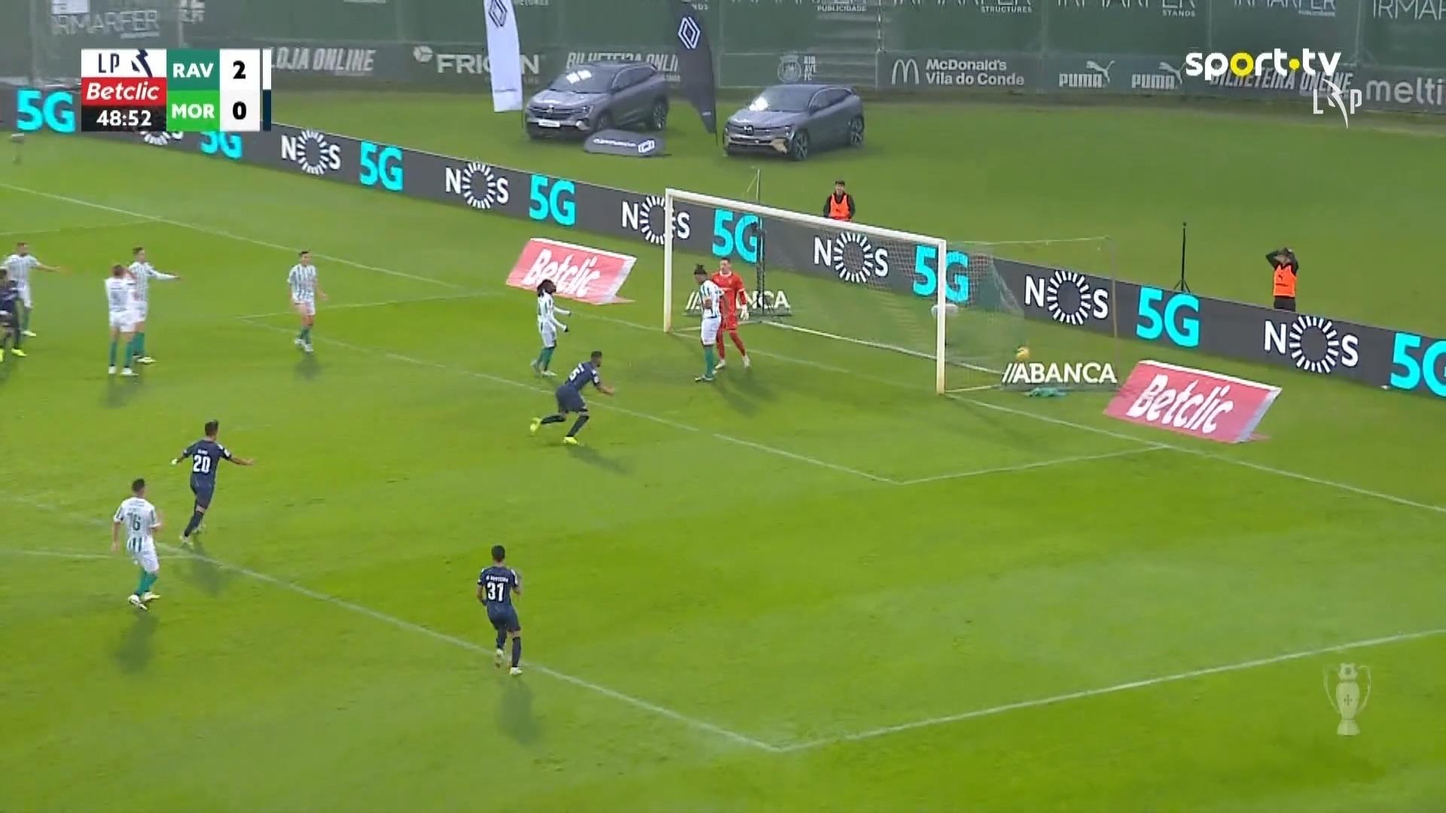ball: (1014, 346, 1029, 362)
goalkeeper: (709, 256, 752, 370)
player: (169, 419, 255, 545), (527, 349, 615, 445), (110, 477, 163, 611), (124, 245, 181, 364), (475, 544, 524, 675), (2, 240, 66, 337), (691, 263, 729, 382), (285, 248, 328, 352), (102, 263, 139, 376), (529, 278, 571, 377), (0, 267, 27, 361)
